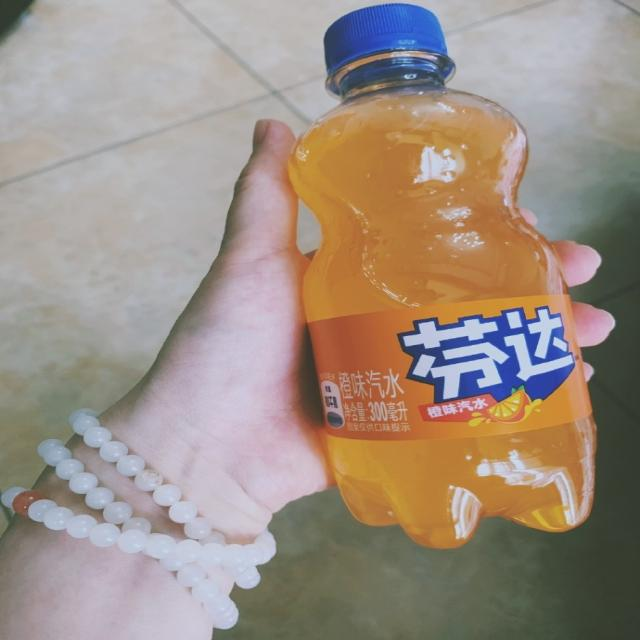bottle: (284, 4, 604, 552)
